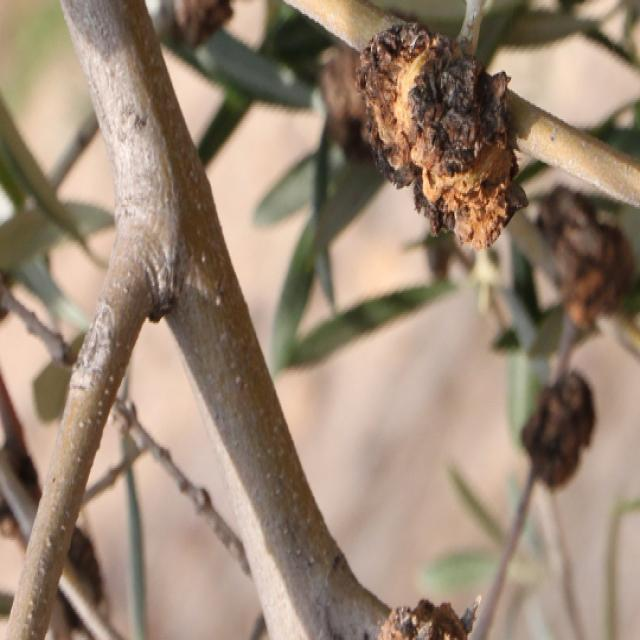Tuberculosis: (356, 9, 526, 247)
